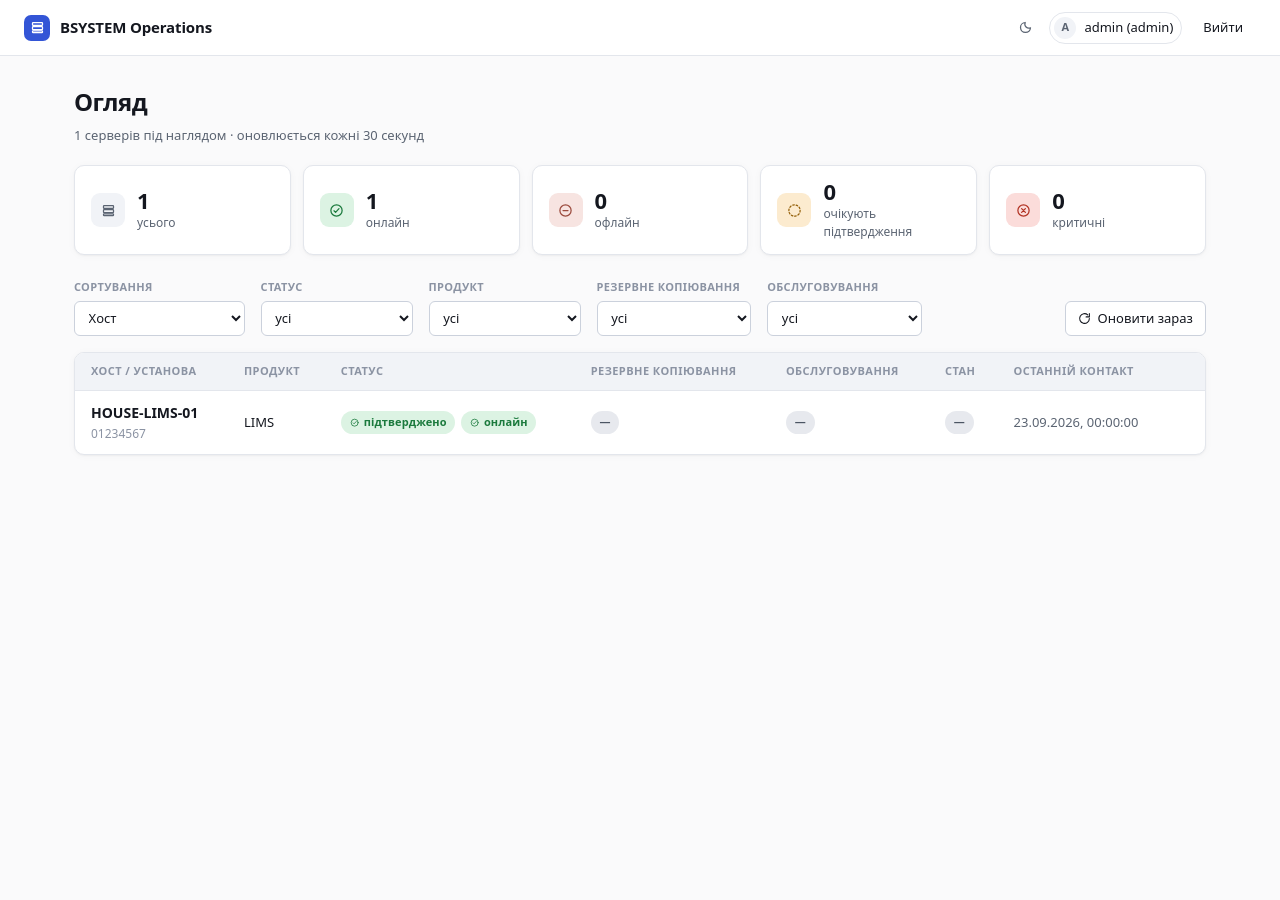
Scenario: App › renders event history without throwing when a stages payload is malformed (F1a)
The width and height of the screenshot is (1280, 900).
Click the button "HOUSE-LIMS-01" at (145, 412), box [91,402,198,423]
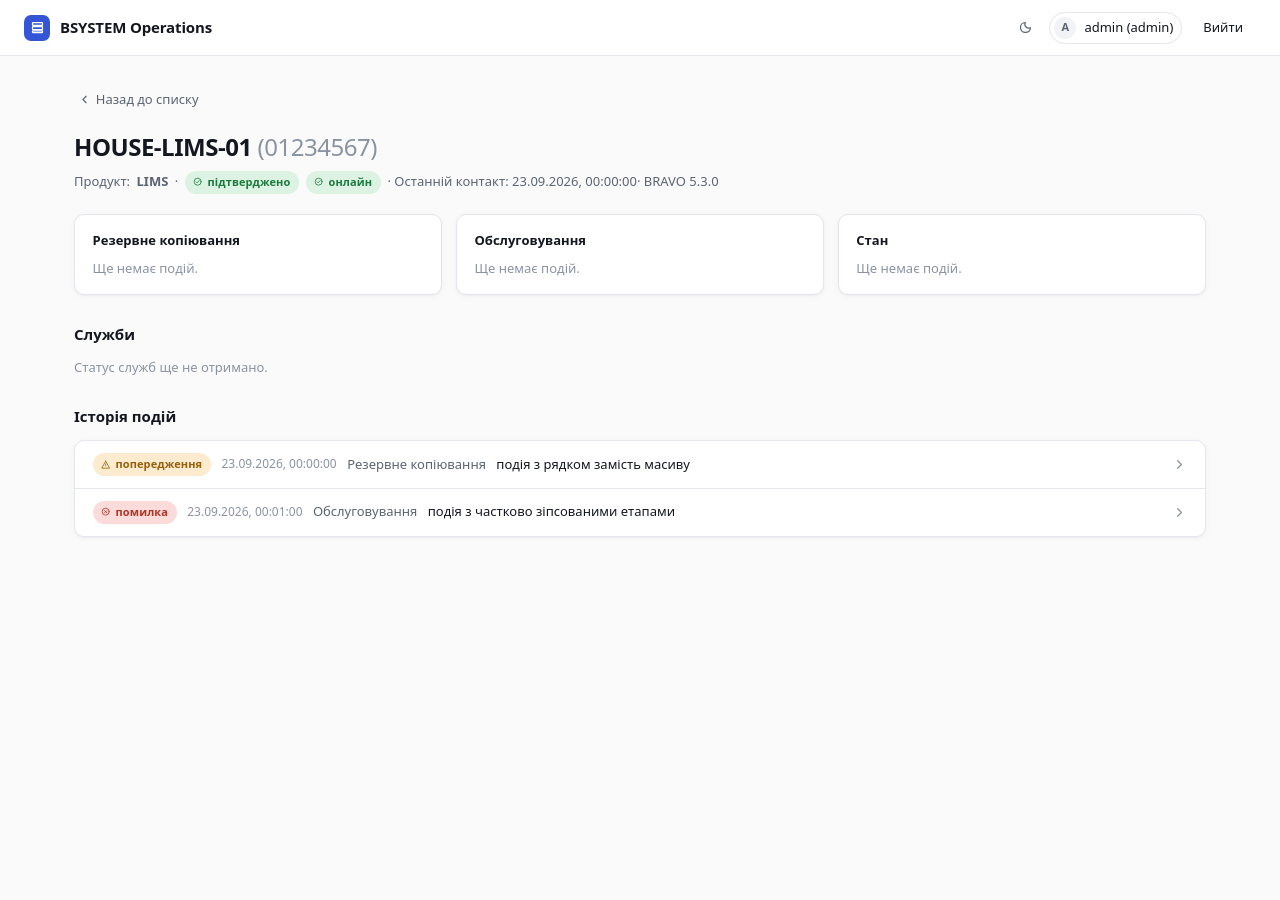
Now the text "подія з рядком замість масиву" is shown, box [496,454,690,474]
Now the text "подія з частково зіпсованими етапами" is shown
Click the text "подія з частково зіпсованими етапами" at (551, 512), box [428,502,675,522]
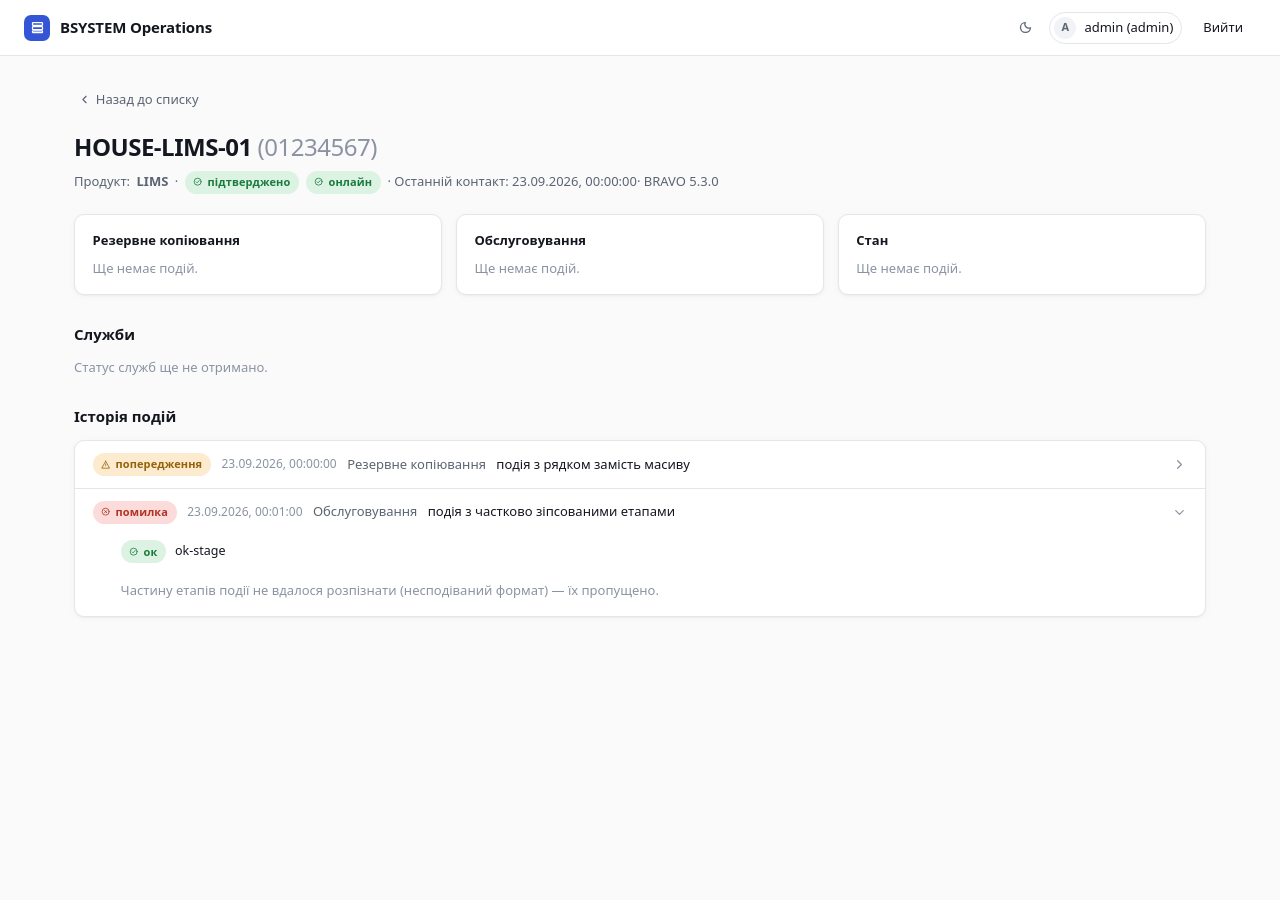
Now the text "ok-stage" is shown, box [175,542,226,560]
Now the text "не вдалося розпізнати" is shown, box [121,581,659,599]
